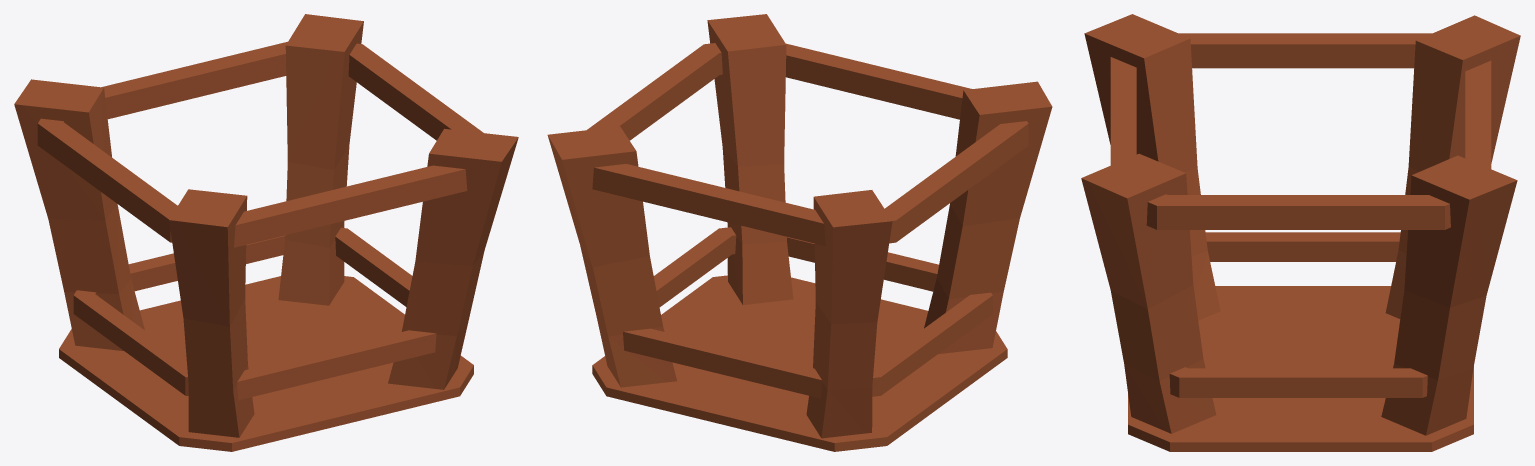
File: Prop_Building_Savage_Tribal_Timber_Tower_Top_01.FBX
3 views of the same model, side by side, from view 1: azimuth 30°, elevation 25°; view 2: azimuth 150°, elevation 25°; view 3: azimuth 270°, elevation 25° (orthographic). The views are drawn at different scales.
Parts seen in each view (by area): view 1: Prop_Building_Savage_Tribal_Timber_Tower_Top_01; view 2: Prop_Building_Savage_Tribal_Timber_Tower_Top_01; view 3: Prop_Building_Savage_Tribal_Timber_Tower_Top_01.
Boxes of the visible parts, x1,y1,x2,y2 form: Prop_Building_Savage_Tribal_Timber_Tower_Top_01: (14,14,518,451); Prop_Building_Savage_Tribal_Timber_Tower_Top_01: (547,14,1052,451); Prop_Building_Savage_Tribal_Timber_Tower_Top_01: (1081,14,1520,451).
Bounding box in the file's own units: 4888 × 3273 × 4888.
